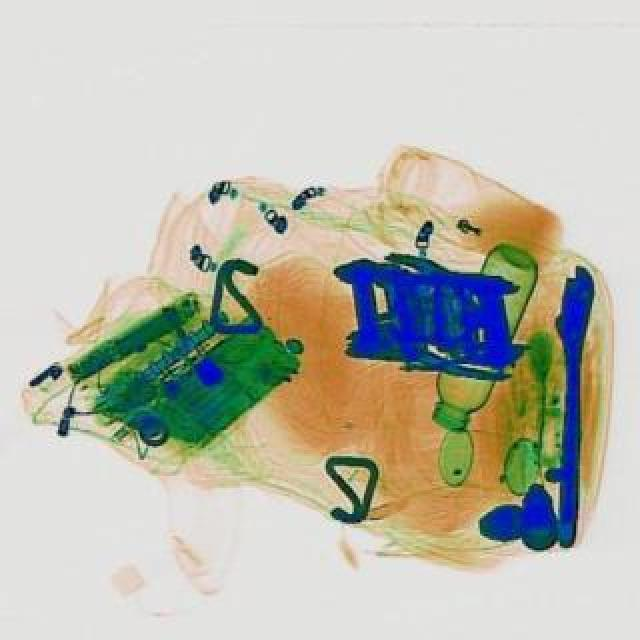scissors: (542, 260, 594, 544)
